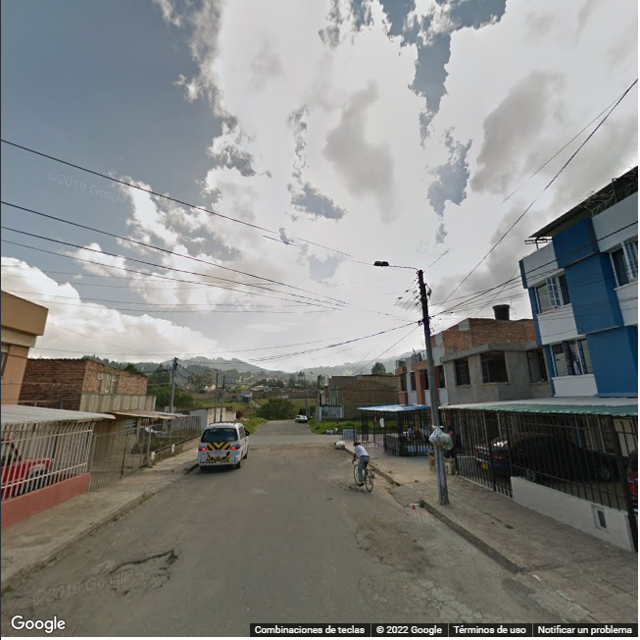D20: (359, 571, 503, 620)
D40: (108, 546, 180, 597)
